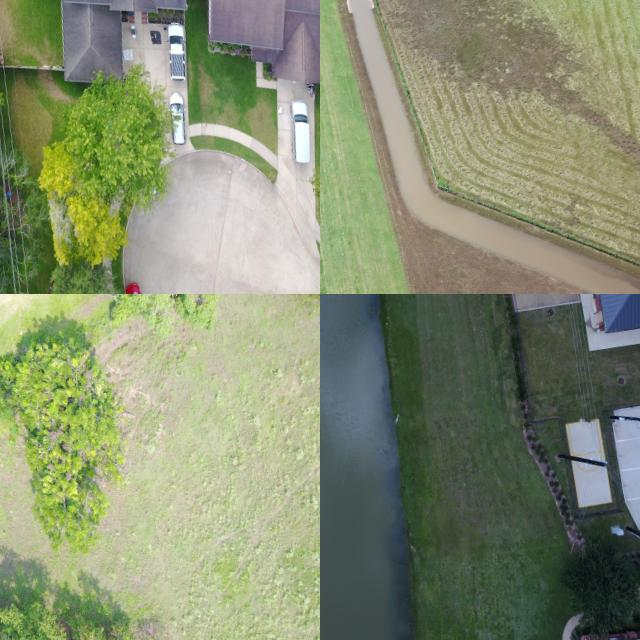fire: (347, 0, 640, 294), (320, 294, 411, 640)
